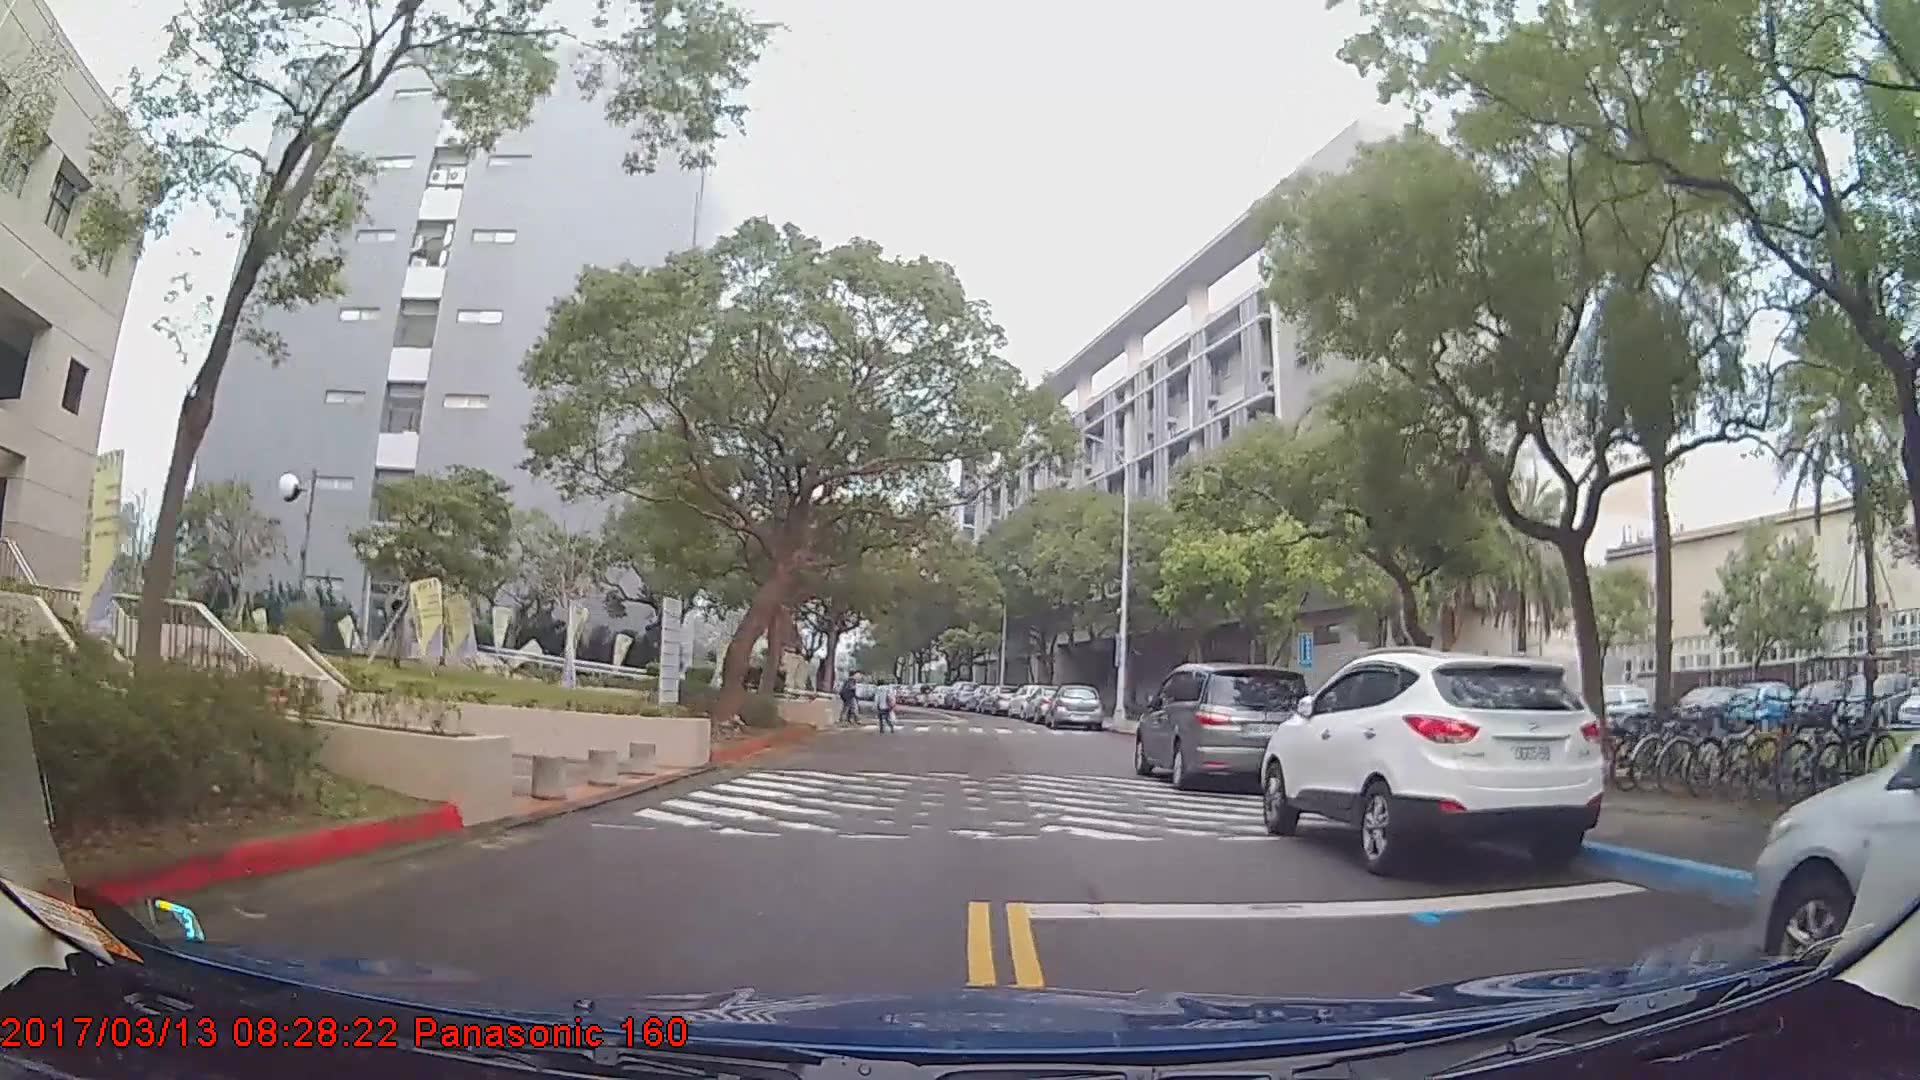pedestrian: (867, 680, 897, 739), (841, 672, 862, 726)
vehicle: (1256, 648, 1611, 874), (1132, 661, 1317, 794), (1516, 684, 1649, 749), (1783, 679, 1867, 734), (1670, 685, 1757, 733), (1721, 680, 1796, 734), (1048, 681, 1103, 732), (940, 679, 977, 710)
